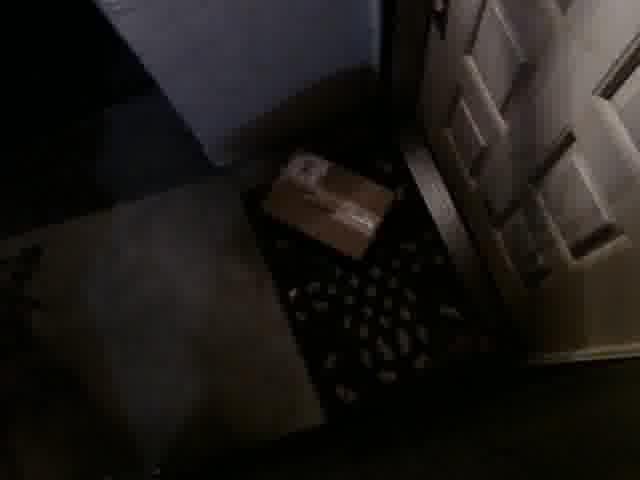box: (257, 146, 399, 266)
